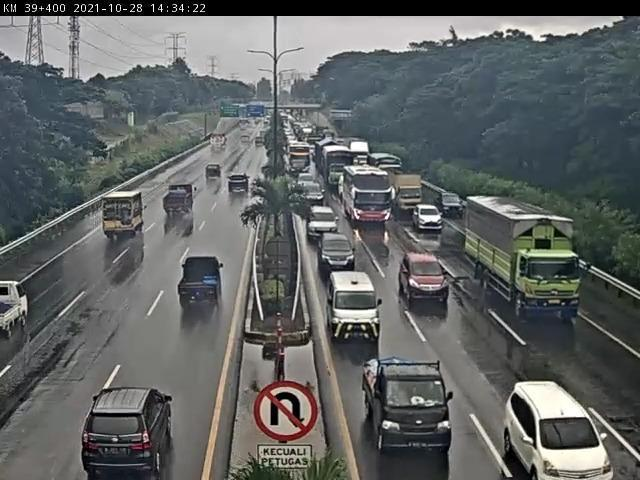bus: (341, 165, 394, 225)
car: (505, 381, 618, 480), (84, 386, 180, 480), (361, 355, 454, 452), (326, 270, 382, 345), (399, 250, 451, 305), (178, 256, 226, 307), (321, 233, 355, 278), (307, 207, 336, 240), (414, 202, 445, 230), (439, 193, 468, 222), (302, 184, 326, 207), (230, 172, 253, 194)
truck: (466, 195, 584, 316), (100, 188, 147, 239), (389, 169, 426, 214), (164, 182, 199, 220)
